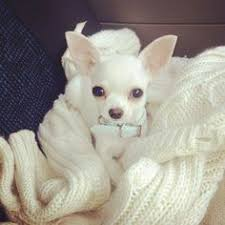chihuahua: (55, 18, 189, 160)
